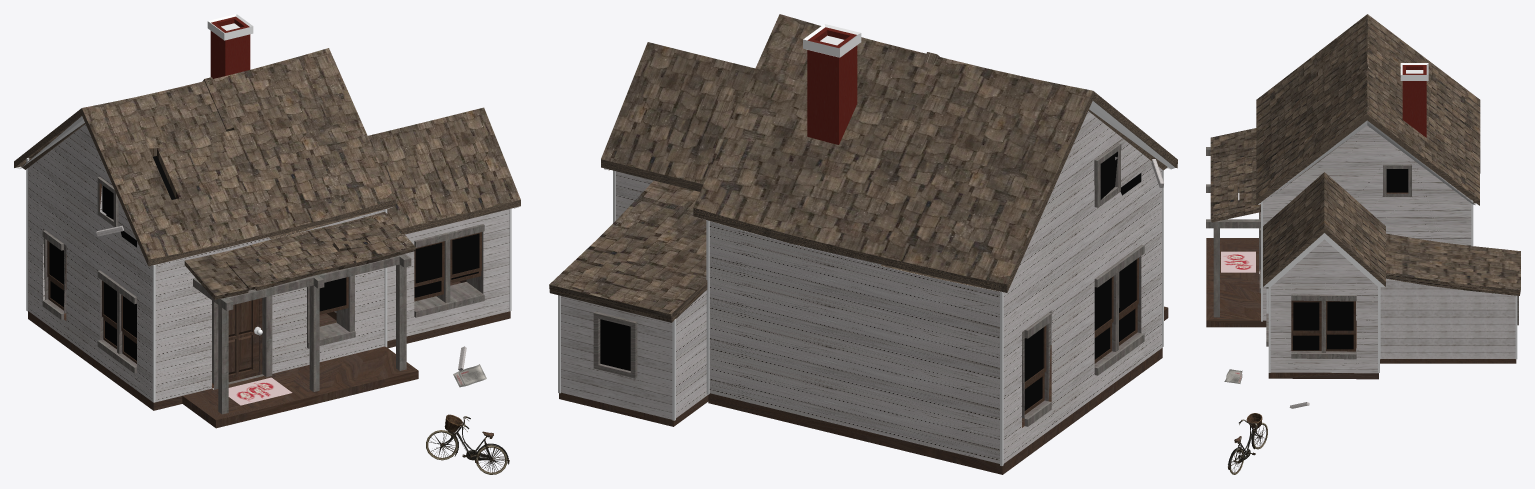
Rendered from 1casa.glb.
3 renders of one model, left to right at view 1: azimuth 30°, elevation 25°; view 2: azimuth 150°, elevation 25°; view 3: azimuth 270°, elevation 25°, orthographic. The views are drawn at different scales.
Visible parts, largest first — view 1: Cube, Telhado Grande, Telhado Pequeno, Cube.009, Telhado, Chaminé, Cube.051, bicicleta, carpet, Cube.026, Cube.023, Cube.008 (+2 smaller); view 2: Cube, Telhado Grande, Casa 1, Telhado Pequeno, Telhado Penqueno 1, Chaminé, Cube.009, Cube.047, Cube.040, Cube.043, Cube.005, Cube.012; view 3: Telhado Grande, Cube, Casa 1, Cube.009, Telhado Pequeno, Telhado Penqueno 1, Telhado, Chaminé, bicicleta, Cube.031, Cube.034, carpet (+4 smaller).
Boxes of the visible parts, <box> form: Cube: <box>28,124,418,428</box>; Telhado Grande: <box>14,48,395,266</box>; Telhado Pequeno: <box>368,107,520,234</box>; Cube.009: <box>327,209,510,348</box>; Telhado: <box>184,212,415,299</box>; Chaminé: <box>207,14,253,78</box>; Cube.051: <box>228,299,258,378</box>; bicicleta: <box>426,414,509,474</box>; carpet: <box>228,377,292,405</box>; Cube.026: <box>452,233,479,274</box>; Cube.023: <box>415,242,441,283</box>; Cube.008: <box>319,277,345,311</box>; Cube: <box>708,111,1168,474</box>; Telhado Grande: <box>693,14,1177,292</box>; Casa 1: <box>559,290,708,426</box>; Telhado Pequeno: <box>601,42,755,191</box>; Telhado Penqueno 1: <box>549,180,707,322</box>; Chaminé: <box>803,24,861,144</box>; Cube.009: <box>616,171,653,219</box>; Cube.047: <box>1024,327,1043,381</box>; Cube.040: <box>1094,278,1111,330</box>; Cube.043: <box>1119,259,1136,312</box>; Cube.005: <box>1000,291,1003,465</box>; Cube.012: <box>706,220,709,394</box>; Telhado Grande: <box>1256,14,1480,205</box>; Cube: <box>1206,125,1471,327</box>; Casa 1: <box>1380,278,1518,363</box>; Cube.009: <box>1266,239,1378,379</box>; Telhado Pequeno: <box>1263,172,1385,286</box>; Telhado Penqueno 1: <box>1386,233,1520,295</box>; Telhado: <box>1210,128,1260,222</box>; Chaminé: <box>1400,63,1428,137</box>; bicicleta: <box>1228,413,1267,474</box>; Cube.031: <box>1327,301,1353,330</box>; Cube.034: <box>1293,302,1319,330</box>; carpet: <box>1221,251,1255,272</box>.
Size of the model in its own units: 5.46 by 5.39 by 4.49.
Materials: 16 (12 with a texture image).
